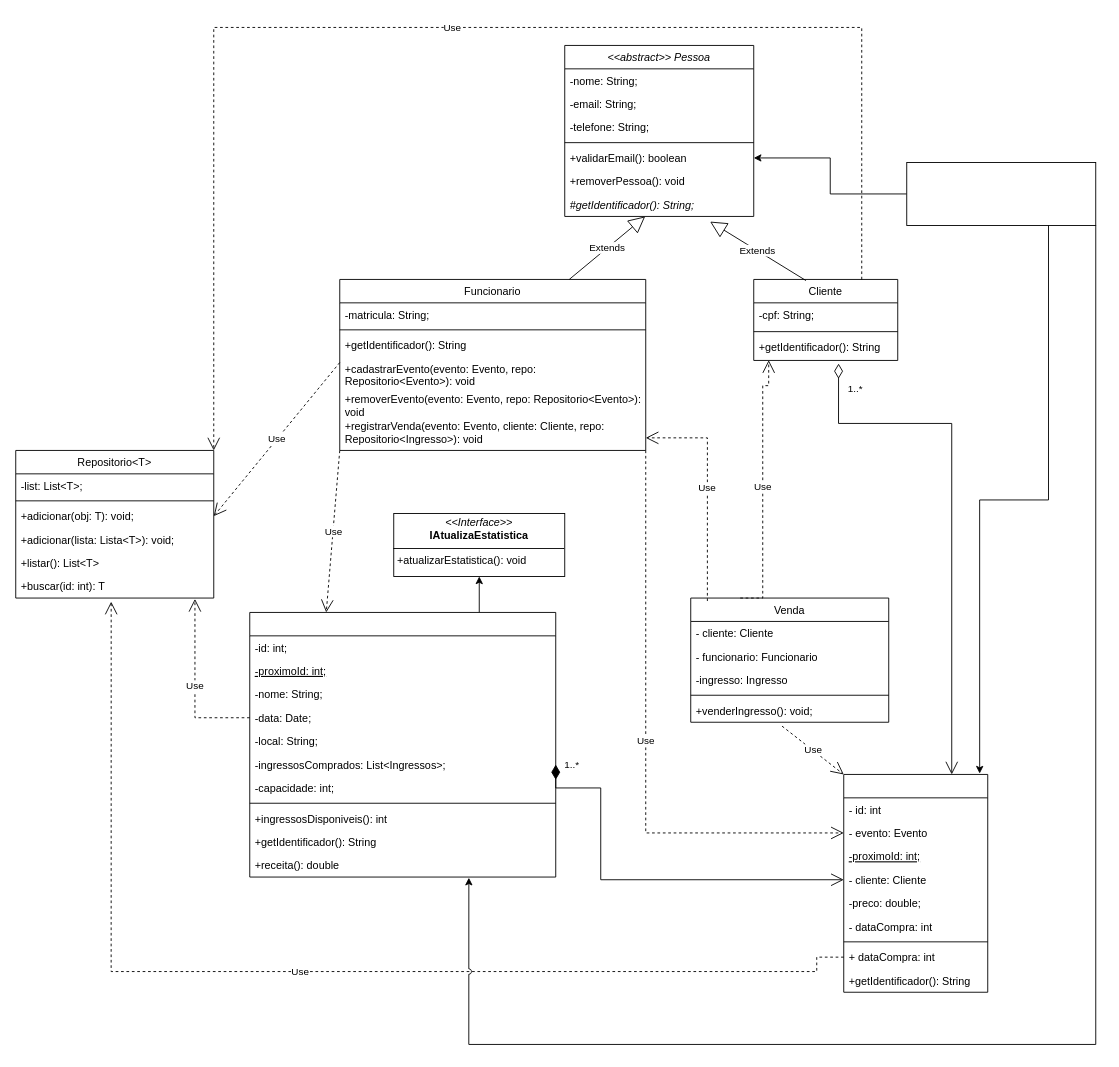
The diagram is 1119 pixels wide and 1067 high, and some of its shapes have lost their labels. The box of each missing label's shape, as (x1, y1, x2, y2) in pixels:
<<Interface>> IIdentificavel + getIdentificador (): String: (906, 162, 1096, 225)
Evento: (249, 612, 556, 877)
Ingresso: (843, 774, 988, 992)
